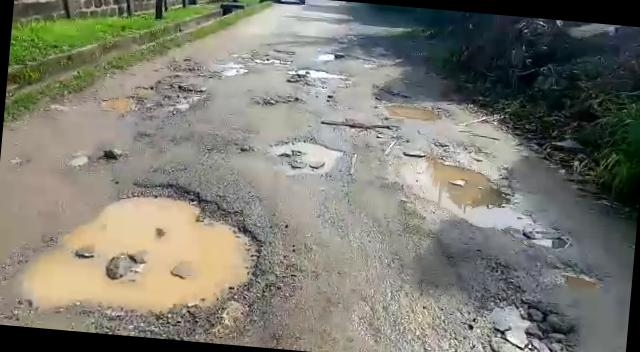pothole: (18, 170, 282, 342), (390, 150, 514, 220), (100, 76, 206, 123), (457, 201, 542, 232), (274, 139, 347, 175), (324, 117, 402, 139), (379, 99, 447, 124), (250, 90, 305, 109), (289, 65, 349, 82)
